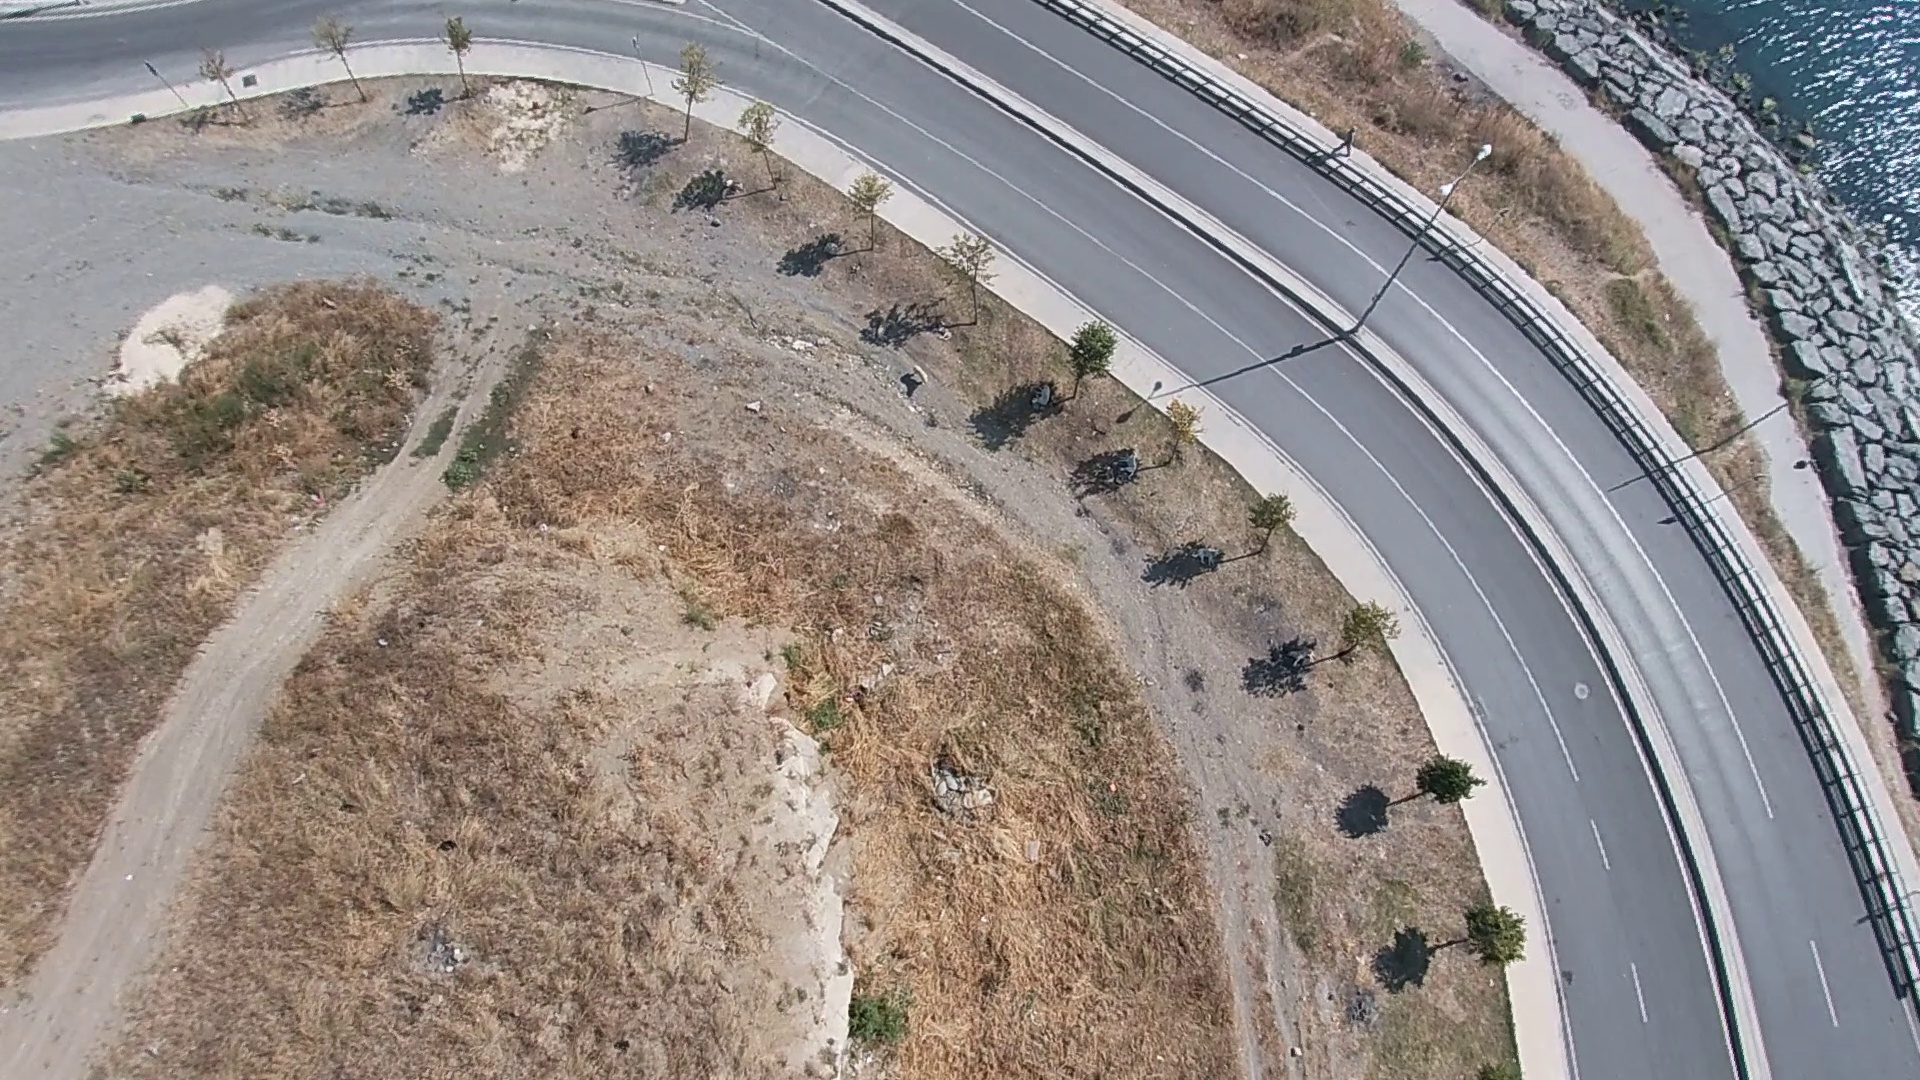insan: (1334, 121, 1360, 160)
